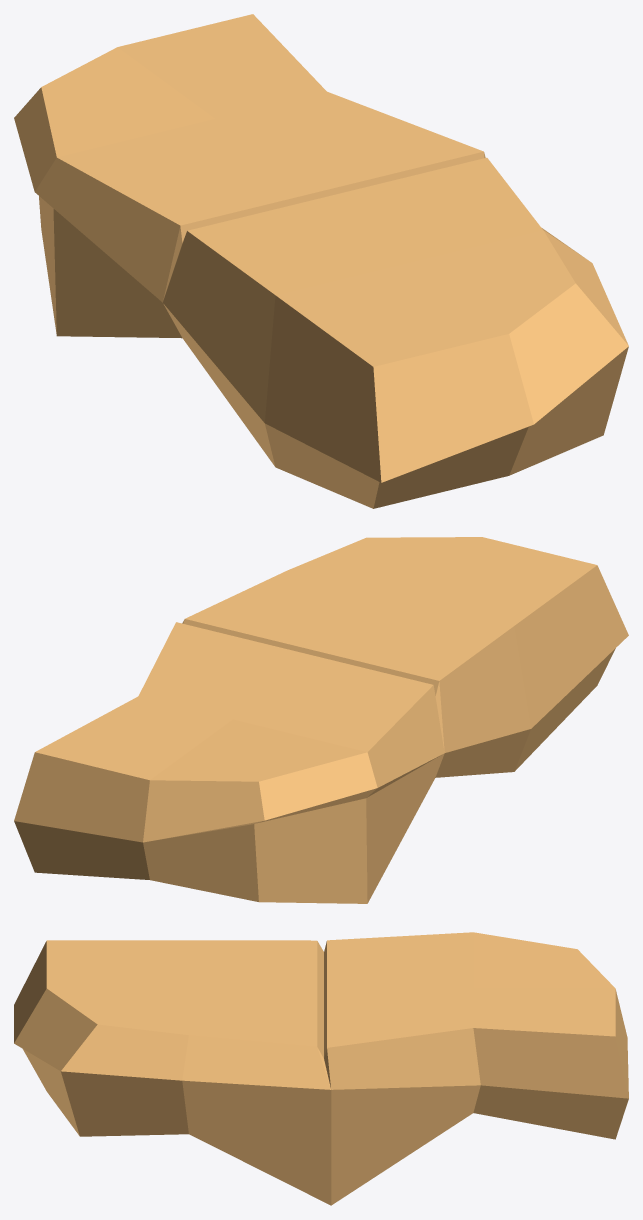
Rendered from RockPlatform1.fbx.
3 renders of one model, top to bottom at view 1: azimuth 30°, elevation 25°; view 2: azimuth 150°, elevation 25°; view 3: azimuth 270°, elevation 25°, orthographic. The views are drawn at different scales.
Parts seen in each view (by area): view 1: Cube; view 2: Cube; view 3: Cube.
Part boxes in pixels (<box>): Cube: <box>14,14,628,508</box>; Cube: <box>14,537,628,903</box>; Cube: <box>14,932,628,1205</box>.
Bounding box in the file's own units: 529 × 312 × 1081.
